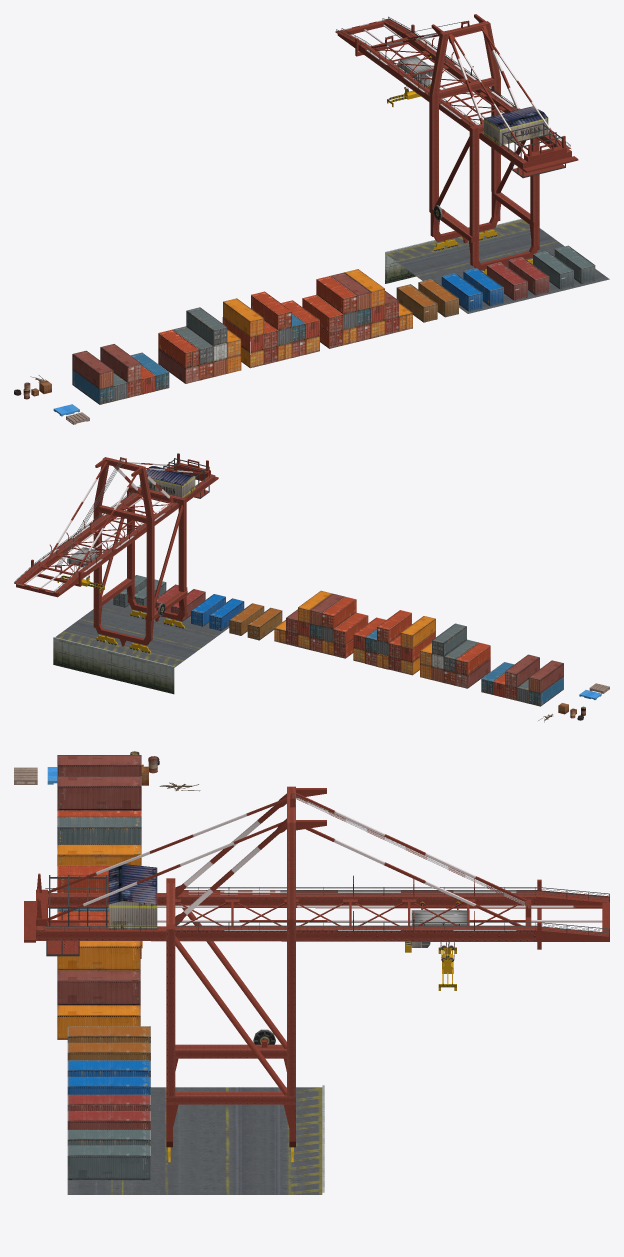
The model's file is Assets_1.fbx.
The picture shows the model from 3 angles, top to bottom: view 1: azimuth 30°, elevation 25°; view 2: azimuth 150°, elevation 25°; view 3: azimuth 270°, elevation 25°; orthographic projection. The views are drawn at different scales.
Visible parts, largest first — view 1: Container_misstion, Base, Container_set1, Container_set2, Container_set3, Container_set4, White_Container, White_Container6, White_Container2, White_Container4, White_Container5, White_Container7 (+2 smaller); view 2: Container_misstion, Base, Container_set1, Container_set2, Container_set3, Container_set4, White_Container, White_Container2, White_Container1, White_Container3, White_Container4, White_Container7; view 3: Container_misstion, Base, Container_set1, Container_set4, Container_set2, White_Container7, Container_set3, White_Container5, White_Container3, White_Container1, White_Container, White_Container2 (+2 smaller).
Boxes of the visible parts, x1,y1,x2,y2 form: Container_misstion: (335,14,578,274); Base: (385,218,609,313); Container_set1: (302,269,412,348); Container_set2: (222,291,319,368); Container_set3: (158,307,241,383); Container_set4: (72,344,169,404); White_Container: (396,284,437,322); White_Container6: (533,251,573,289); White_Container2: (441,273,482,311); White_Container4: (487,262,527,300); White_Container5: (508,257,549,295); White_Container7: (554,245,595,283); Container_misstion: (14,453,218,653); Base: (53,598,229,694); Container_set1: (274,590,368,658); Container_set2: (353,610,435,675); Container_set3: (420,623,490,688); Container_set4: (481,654,563,706); White_Container: (247,607,282,640); White_Container2: (209,598,244,630); White_Container1: (229,603,264,635); White_Container3: (191,594,225,626); White_Container4: (171,589,205,621); White_Container7: (113,575,146,607); Container_misstion: (24,786,609,1163); Base: (67,1085,324,1194); Container_set1: (57,915,140,1039); Container_set4: (57,755,141,816); Container_set2: (57,844,142,958); White_Container7: (67,1145,150,1180); Container_set3: (57,816,141,844); White_Container5: (67,1111,150,1129); White_Container3: (67,1076,150,1094); White_Container1: (67,1042,150,1060); White_Container: (67,1026,150,1042); White_Container2: (67,1060,150,1076).
Bounding box in the file's own units: 11780 × 5017 × 6910.
